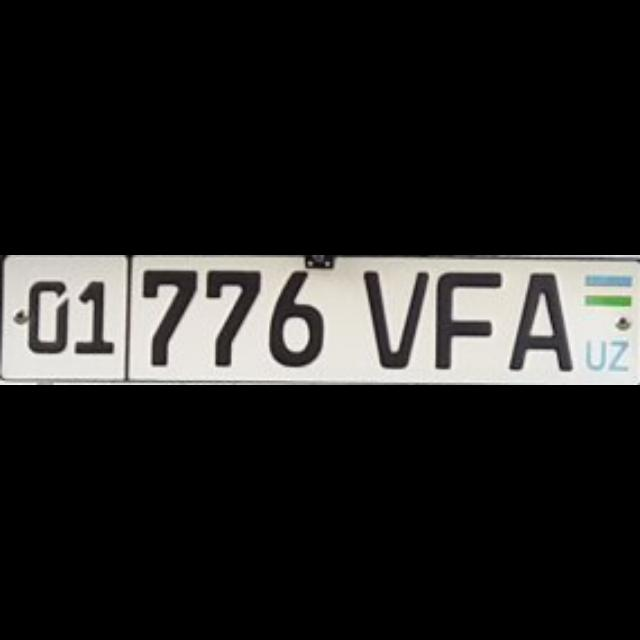0: (25, 278, 65, 352)
1: (72, 278, 110, 352)
6: (265, 268, 321, 366)
7: (202, 266, 258, 366), (139, 266, 195, 364)
A: (506, 270, 570, 370)
F: (434, 268, 498, 366)
V: (362, 268, 426, 368)
